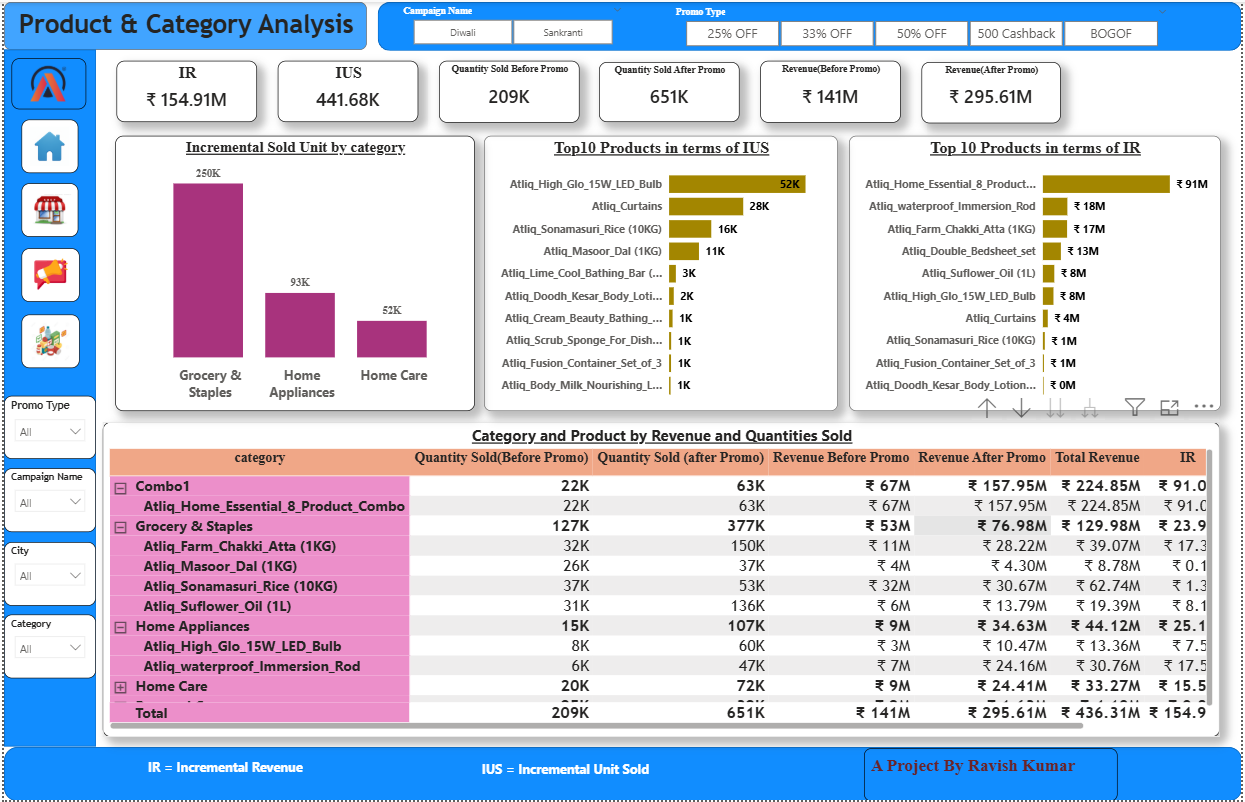

What the dashboard file says about the page in this screenshot:
{"tool":"powerbi","page":{"name":" Product and Category Analysis","canvas":[1550,1000],"ordinal":3},"visuals":[{"type":"textbox","box":[0,0,454.2,60.4],"z":0},{"type":"shape","box":[468.8,0,1081.9,61.1],"z":1000},{"type":"shape","box":[0,59.4,115.5,873],"z":2000},{"type":"slicer","title":"Campaign","fields":{"Values":["dim_campaigns.campaign_name"]},"box":[486.8,0,299.1,60.1],"z":3000},{"type":"slicer","title":"Campaign Name","fields":{"Values":["dim_campaigns.campaign_name"]},"box":[0,584,115.5,80.3],"z":4000},{"type":"slicer","title":"Promo Type","fields":{"Values":["fact_events.promo_type"]},"box":[0,493.1,115.5,78.9],"z":5000},{"type":"image","box":[10,70.1,93.9,63.8],"z":6000},{"type":"slicer","title":"Promo Type","fields":{"Values":["fact_events.promo_type"]},"box":[828.5,1.5,640.5,59.6],"z":7000},{"type":"image","box":[21.3,146.4,71.3,67.6],"z":8000},{"type":"image","box":[21.3,227.8,71.3,67.6],"z":9000},{"type":"image","box":[21.3,309.1,72.6,67.6],"z":10000},{"type":"image","box":[21.3,391.7,72.6,67.6],"z":11000},{"type":"slicer","title":"City","fields":{"Values":["dim_stores.city"]},"box":[0,676.3,115.5,80.3],"z":12000},{"type":"card","title":"IR","fields":{"Values":["Measures (2).Incremental Revenue"]},"box":[140.6,73.4,175.8,76.4],"z":13000},{"type":"card","title":"IUS","fields":{"Values":["Measures (2).Incremental Unit Sold"]},"box":[342.4,73.4,175.8,76.4],"z":14000},{"type":"card","title":"Revenue(Before Promo)","fields":{"Values":["Measures (2).Revenue Before Promo"]},"box":[947.7,73.4,175.8,78],"z":15000},{"type":"card","title":"Revenue(After Promo)","fields":{"Values":["Measures (2).Revenue After Promo"]},"box":[1149.5,74.9,174.3,76.4],"z":16000},{"type":"card","title":"Quantity Sold After Promo","fields":{"Values":["Measures (2).Quantity Sold (after Promo)"]},"box":[745.9,74.9,175.8,74.9],"z":17000},{"type":"card","title":"Quantity Sold Before Promo","fields":{"Values":["Measures (2).Quantity Sold(Before Promo)"]},"box":[544.2,73.4,175.8,78],"z":18000},{"type":"textbox","box":[185.9,679.9,199.3,33],"z":19000},{"type":"textbox","box":[469.6,679.9,220.1,33],"z":20000},{"type":"shape","box":[0,932.4,1550.6,67.9],"z":21000},{"type":"textbox","box":[1076.8,934.1,317.6,66.2],"z":22000},{"type":"textbox","box":[479.6,689.9,220.1,33],"z":23000},{"type":"textbox","box":[592.7,944.3,244.6,42.5],"z":24000},{"type":"textbox","box":[174.9,942.6,239.5,42.5],"z":25000},{"type":"pivotTable","title":"Category and Product by Revenue and Quantities Sold","fields":{"Rows":["dim_products.category","dim_products.product_name"],"Values":["Measures (2).Quantity Sold(Before Promo)","Measures (2).Quantity Sold (after Promo)","Measures (2).Revenue Before Promo","Measures (2).Revenue After Promo","Measures (2).Total Revenue","Measures (2).Incremental Revenue","Measures (2).IR%"]},"box":[124,526.5,1399.5,394],"z":26000},{"type":"clusteredColumnChart","fields":{"Category":["dim_products.category"],"Y":["Measures (2).Incremental Sold Unit"]},"box":[139.3,168.1,450.1,344.8],"z":27000},{"type":"clusteredBarChart","title":"Top 10 Products in terms of IR","fields":{"Category":["dim_products.product_name"],"Y":["Measures (2).Incremental Revenue"]},"box":[1058.1,168.1,465.4,344.8],"z":28000},{"type":"clusteredBarChart","title":"Top10 Products in terms of IUS","fields":{"Category":["dim_products.product_name"],"Y":["Measures (2).Incremental Unit Sold"]},"box":[601.2,168.1,443.3,344.8],"z":29000},{"type":"slicer","title":"Category","fields":{"Values":["dim_products.category"]},"box":[0,767.7,115.5,79.8],"z":30000}]}

Visuals, with their boxes in screenshot pixels (x1, y1, x2, y2), scaled from the page's 1550x1000 canvas onto the 1245x802 screenshot:
textbox: BBox(0, 0, 365, 48)
shape: BBox(377, 0, 1244, 49)
shape: BBox(0, 48, 93, 748)
"Campaign" slicer: BBox(391, 0, 631, 48)
"Campaign Name" slicer: BBox(0, 468, 93, 533)
"Promo Type" slicer: BBox(0, 395, 93, 459)
image: BBox(8, 56, 83, 107)
"Promo Type" slicer: BBox(665, 1, 1180, 49)
image: BBox(17, 117, 74, 172)
image: BBox(17, 183, 74, 237)
image: BBox(17, 248, 75, 302)
image: BBox(17, 314, 75, 368)
"City" slicer: BBox(0, 542, 93, 607)
"IR" card: BBox(113, 59, 254, 120)
"IUS" card: BBox(275, 59, 416, 120)
"Revenue(Before Promo)" card: BBox(761, 59, 902, 121)
"Revenue(After Promo)" card: BBox(923, 60, 1063, 121)
"Quantity Sold After Promo" card: BBox(599, 60, 740, 120)
"Quantity Sold Before Promo" card: BBox(437, 59, 578, 121)
textbox: BBox(149, 545, 309, 572)
textbox: BBox(377, 545, 554, 572)
shape: BBox(0, 748, 1244, 801)
textbox: BBox(865, 749, 1120, 801)
textbox: BBox(385, 553, 562, 580)
textbox: BBox(476, 757, 673, 791)
textbox: BBox(140, 756, 333, 790)
"Category and Product by Revenue and Quantities Sold" pivotTable: BBox(100, 422, 1224, 738)
clusteredColumnChart - dim_products.category x Measures (2).Incremental Sold Unit: BBox(112, 135, 473, 411)
"Top 10 Products in terms of IR" clusteredBarChart: BBox(850, 135, 1224, 411)
"Top10 Products in terms of IUS" clusteredBarChart: BBox(483, 135, 839, 411)
"Category" slicer: BBox(0, 616, 93, 680)
